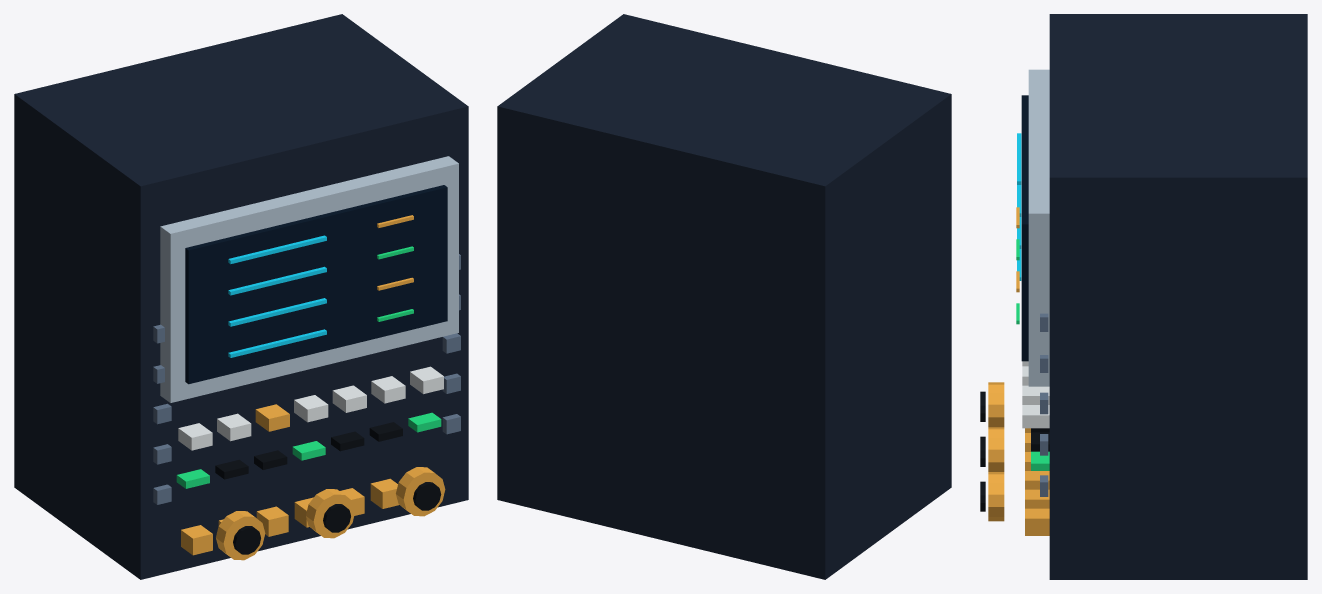
Rendered from 23_L90_Aurora1SolarArrayTrackingController.fbx.
3 renders of one model, left to right at view 1: azimuth 30°, elevation 25°; view 2: azimuth 150°, elevation 25°; view 3: azimuth 270°, elevation 25°, orthographic. The views are drawn at different scales.
Visible parts, largest first — view 1: L90_Aurora1SolarArrayTrackingController, L90_Aurora1SolarArrayTrackingController_Part_0013, L90_Aurora1SolarArrayTrackingController_Part_0011, L90_Aurora1SolarArrayTrackingController_Part_0009, L90_Aurora1SolarArrayTrackingController_Part_0014, L90_Aurora1SolarArrayTrackingController_Part_0010, L90_Aurora1SolarArrayTrackingController_Part_0012; view 2: L90_Aurora1SolarArrayTrackingController; view 3: L90_Aurora1SolarArrayTrackingController, L90_Aurora1SolarArrayTrackingController_Part_0013, L90_Aurora1SolarArrayTrackingController_Part_0009, L90_Aurora1SolarArrayTrackingController_Part_0011.
Boxes of the visible parts, <box> form: L90_Aurora1SolarArrayTrackingController: <box>14,14,468,579</box>; L90_Aurora1SolarArrayTrackingController_Part_0013: <box>396,467,445,516</box>; L90_Aurora1SolarArrayTrackingController_Part_0011: <box>306,489,355,538</box>; L90_Aurora1SolarArrayTrackingController_Part_0009: <box>216,511,265,560</box>; L90_Aurora1SolarArrayTrackingController_Part_0014: <box>413,482,441,510</box>; L90_Aurora1SolarArrayTrackingController_Part_0010: <box>233,526,260,554</box>; L90_Aurora1SolarArrayTrackingController_Part_0012: <box>323,504,350,532</box>; L90_Aurora1SolarArrayTrackingController: <box>497,14,951,579</box>; L90_Aurora1SolarArrayTrackingController: <box>1016,14,1307,579</box>; L90_Aurora1SolarArrayTrackingController_Part_0013: <box>988,472,1004,521</box>; L90_Aurora1SolarArrayTrackingController_Part_0009: <box>988,382,1004,427</box>; L90_Aurora1SolarArrayTrackingController_Part_0011: <box>988,427,1004,471</box>.
Bounding box in the file's own units: 102 × 117 × 86.2.
